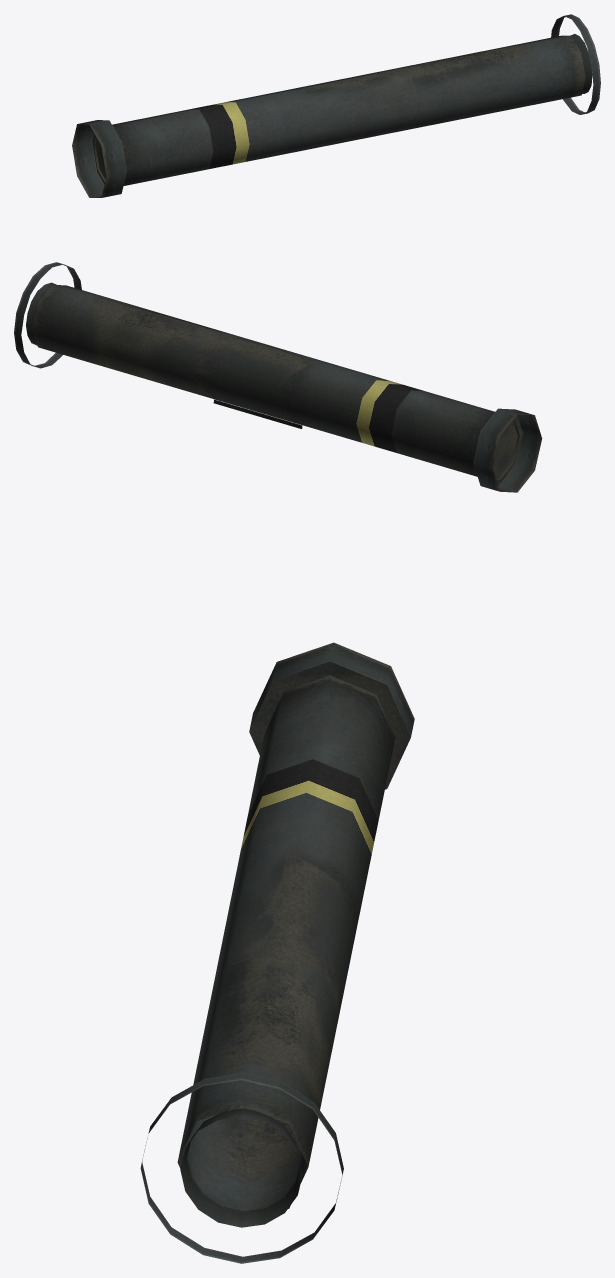
The model's file is weapon_javelin_stow_LOD0.obj.
3 renders of one model, top to bottom at view 1: azimuth 30°, elevation 25°; view 2: azimuth 150°, elevation 25°; view 3: azimuth 270°, elevation 25°, orthographic. The views are drawn at different scales.
Parts seen in each view (by area): view 1: mtl_weapon_javelin; view 2: mtl_weapon_javelin; view 3: mtl_weapon_javelin.
Part boxes in pixels (x1=…): mtl_weapon_javelin: x1=72, y1=14, x2=600, y2=197; mtl_weapon_javelin: x1=14, y1=262, x2=542, y2=492; mtl_weapon_javelin: x1=140, y1=642, x2=414, y2=1263.
Size of the model in its own units: 106 by 23.45 by 29.15.
